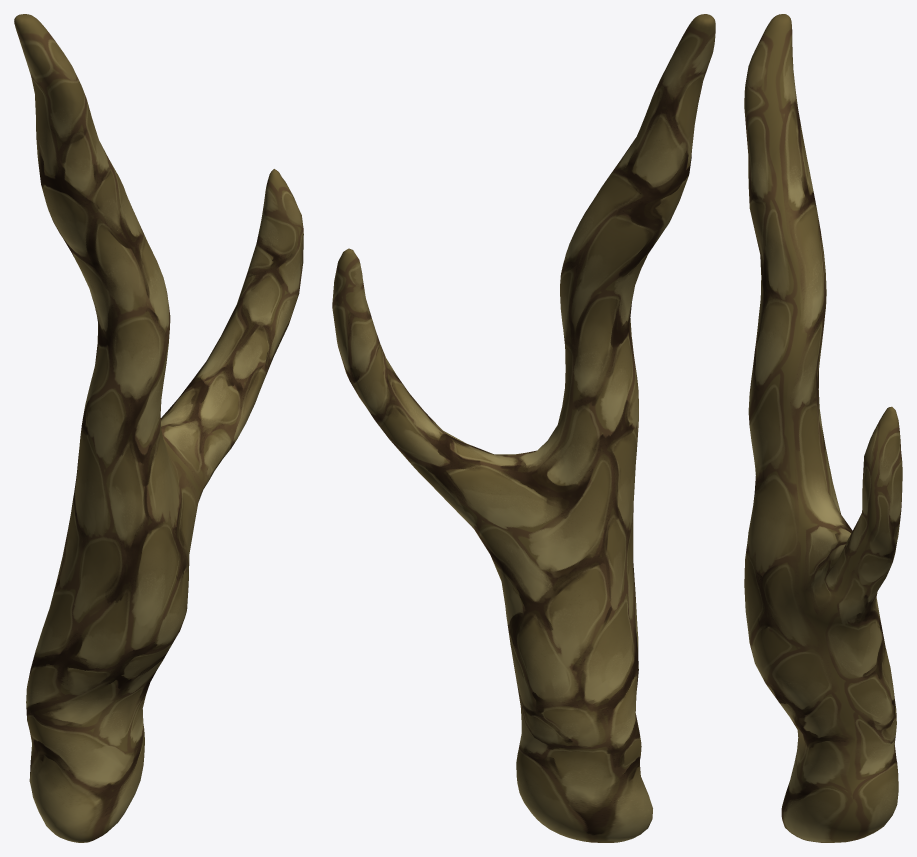
The model's file is branch3_fat.fbx.
3 views of the same model, side by side, from view 1: azimuth 30°, elevation 25°; view 2: azimuth 150°, elevation 25°; view 3: azimuth 270°, elevation 25° (orthographic). The views are drawn at different scales.
Parts seen in each view (by area): view 1: branch7; view 2: branch7; view 3: branch7.
Part boxes in pixels (x1,y1,x2,y2): branch7: (14,14,303,842); branch7: (332,14,715,842); branch7: (744,14,902,842).
Bounding box in the file's own units: 318 × 765 × 140.
1 material, 1 textured.
